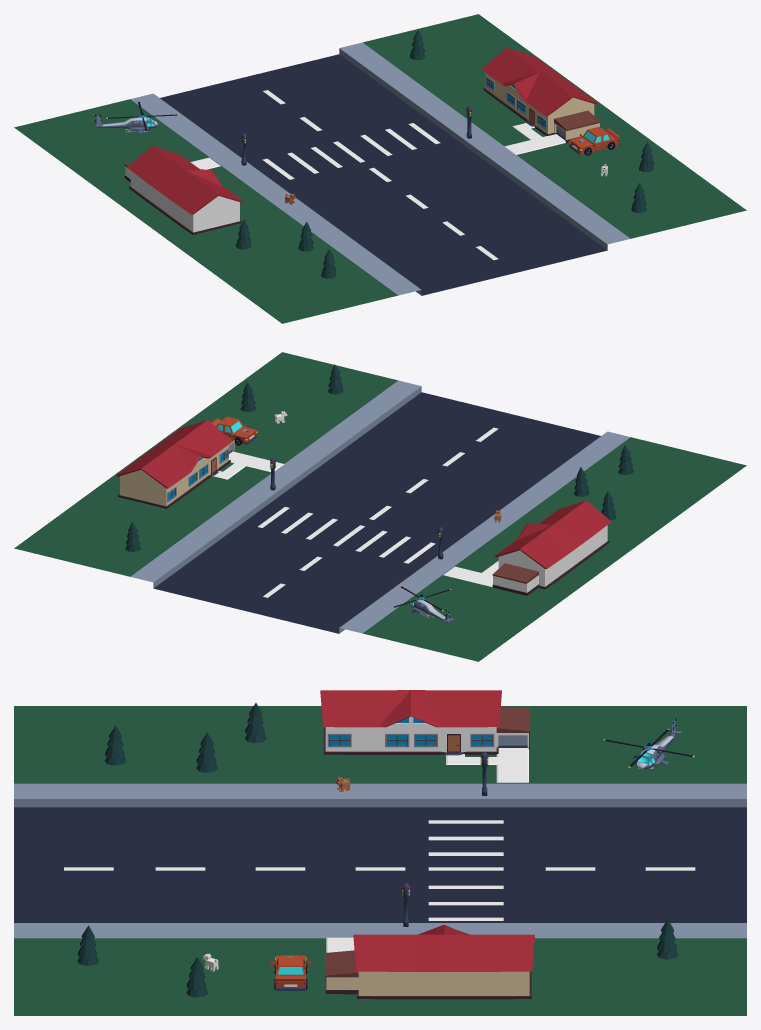
File: Road4.fbx
The picture shows the model from 3 angles, top to bottom: view 1: azimuth 30°, elevation 25°; view 2: azimuth 150°, elevation 25°; view 3: azimuth 270°, elevation 25°; orthographic projection. The views are drawn at different scales.
Parts seen in each view (by area): view 1: Road4; view 2: Road4; view 3: Road4.
Boxes of the visible parts, <box> form: Road4: <box>14,14,746,323</box>; Road4: <box>14,352,746,661</box>; Road4: <box>14,690,746,1015</box>.
Bounding box in the file's own units: 20 × 1.7 × 20.
